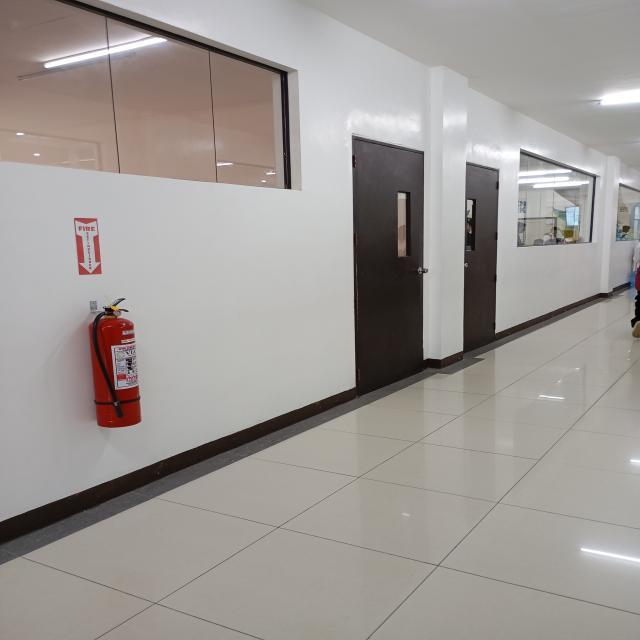door: (341, 121, 438, 401)
